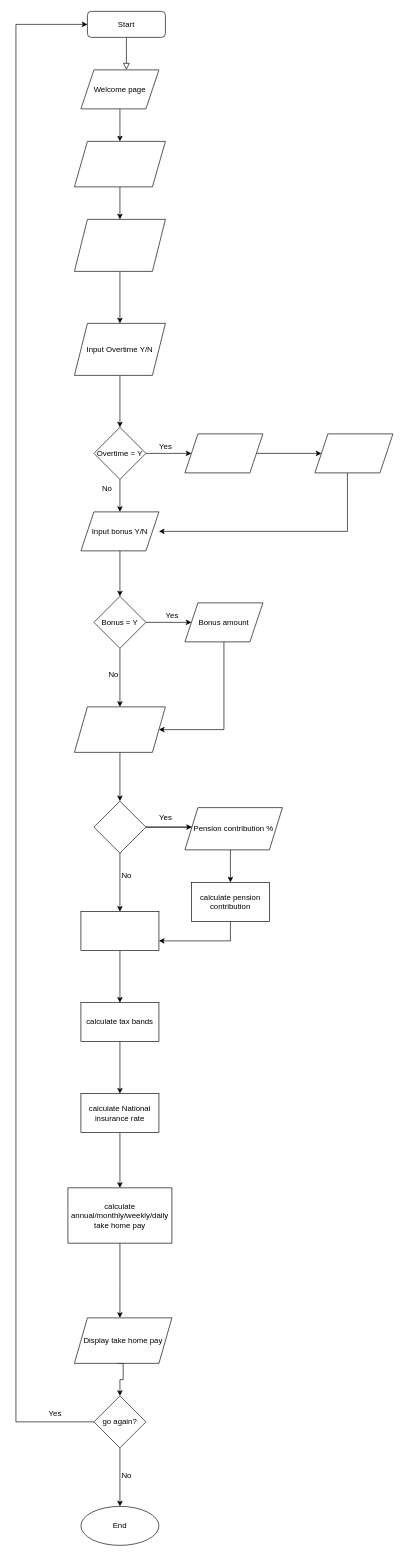
This 404x1557 diagram has some shape labels left out. The shapes that lost their labels are listed below. From the top down, each one's centre as x and y in pixels, then its label:
At [119,164]: "Enter annual salary".
At [119,245]: "Enter contract hours".
At [223,453]: "Overtime amount".
At [353,453]: "Overtime pay rate".
At [119,729]: "Pension contribution Y/N".
At [119,826]: "Pension = Y".
At [119,931]: "calculate pre-tax income".
